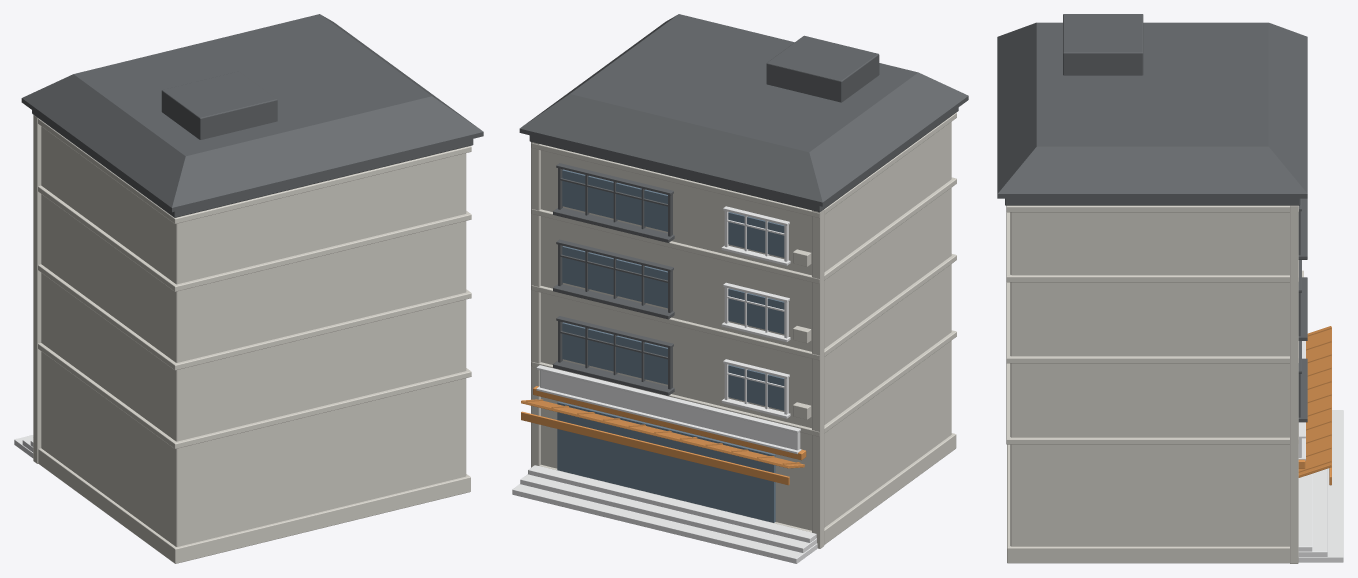
The model's file is Hamidiye_PetrolYoluBrandaBlock.fbx.
The picture shows the model from 3 angles, left to right: view 1: azimuth 30°, elevation 25°; view 2: azimuth 150°, elevation 25°; view 3: azimuth 270°, elevation 25°; orthographic projection. The views are drawn at different scales.
Visible parts, largest first — view 1: Petrol_Body, Petrol_Roof; view 2: Petrol_Body, Petrol_Roof, Petrol_ShowroomGlass, Petrol_Steps, Petrol_SignBanner, Petrol_OrangeAwning, Petrol_EncGlass_1, Petrol_EncGlass_3, Petrol_EncGlass_2, Petrol_EncBalc_1, Petrol_EncBalc_3, Petrol_EncBalc_2 (+6 smaller); view 3: Petrol_Body, Petrol_Roof, Petrol_Steps, Petrol_OrangeAwning, Petrol_EncBalc_1, Petrol_EncBalc_2, Petrol_EncBalc_3.
Part boxes in pixels (x1=…): Petrol_Body: x1=33, y1=115, x2=471, y2=563; Petrol_Roof: x1=21, y1=14, x2=483, y2=217; Petrol_Body: x1=531, y1=112, x2=956, y2=548; Petrol_Roof: x1=519, y1=14, x2=968, y2=212; Petrol_ShowroomGlass: x1=557, y1=401, x2=775, y2=522; Petrol_Steps: x1=512, y1=465, x2=817, y2=563; Petrol_SignBanner: x1=536, y1=365, x2=801, y2=454; Petrol_OrangeAwning: x1=521, y1=386, x2=806, y2=485; Petrol_EncGlass_1: x1=562, y1=322, x2=667, y2=384; Petrol_EncGlass_3: x1=562, y1=169, x2=667, y2=231; Petrol_EncGlass_2: x1=562, y1=246, x2=667, y2=308; Petrol_EncBalc_1: x1=553, y1=316, x2=674, y2=395; Petrol_EncBalc_3: x1=553, y1=163, x2=674, y2=242; Petrol_EncBalc_2: x1=553, y1=239, x2=674, y2=319; Petrol_Body: x1=1006, y1=205, x2=1303, y2=563; Petrol_Roof: x1=997, y1=14, x2=1307, y2=205; Petrol_Steps: x1=1298, y1=410, x2=1343, y2=562; Petrol_OrangeAwning: x1=1298, y1=326, x2=1331, y2=485; Petrol_EncBalc_1: x1=1298, y1=341, x2=1307, y2=422; Petrol_EncBalc_2: x1=1298, y1=260, x2=1307, y2=340; Petrol_EncBalc_3: x1=1298, y1=198, x2=1307, y2=259.
Bounding box in the file's own units: 12.04 × 15.25 × 11.19.
